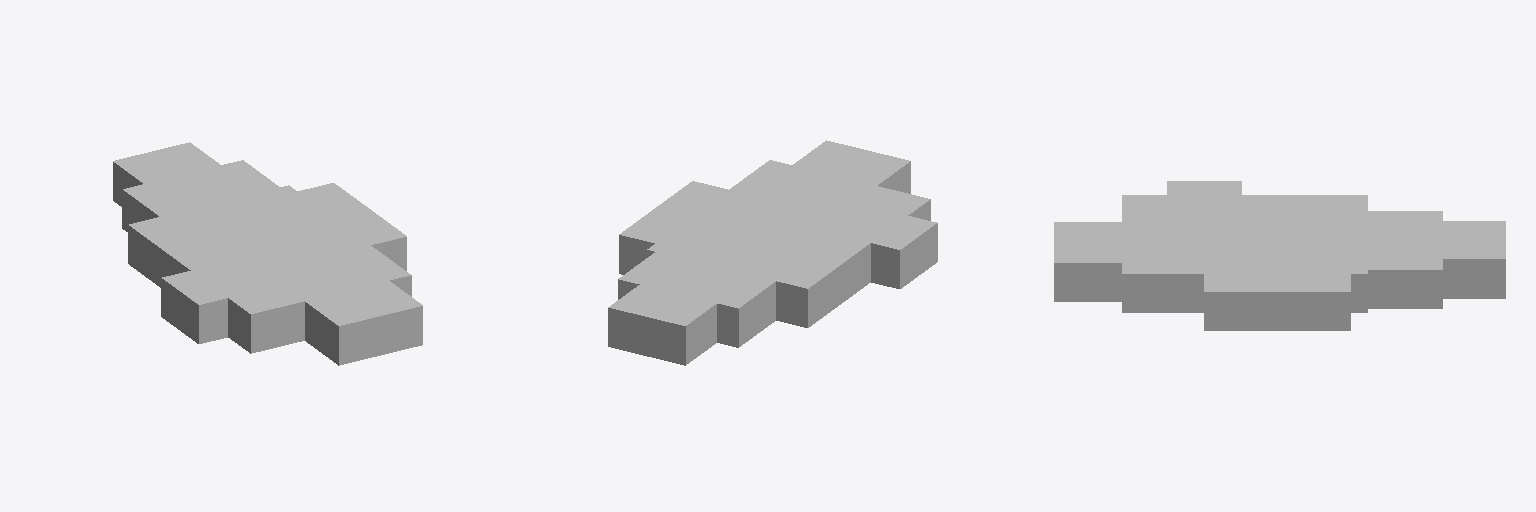
File: CloudV4.obj
3 renders of one model, left to right at view 1: azimuth 30°, elevation 25°; view 2: azimuth 150°, elevation 25°; view 3: azimuth 270°, elevation 25°, orthographic.
Visible parts, largest first — view 1: pCube4; view 2: pCube4; view 3: pCube4.
Boxes of the visible parts, x1=… form: pCube4: x1=113, y1=142, x2=422, y2=365; pCube4: x1=608, y1=140, x2=937, y2=365; pCube4: x1=1054, y1=181, x2=1505, y2=330.
Bounding box in the file's own units: 3.01 × 0.5 × 5.2.